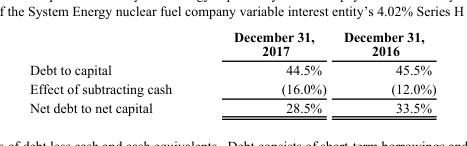table: (29, 28, 435, 114)
table column: (29, 28, 202, 114), (202, 28, 334, 114), (334, 28, 435, 114)
table column header: (29, 28, 435, 59)
table row: (29, 28, 435, 59), (29, 59, 435, 78), (29, 78, 435, 97), (29, 97, 435, 114)
